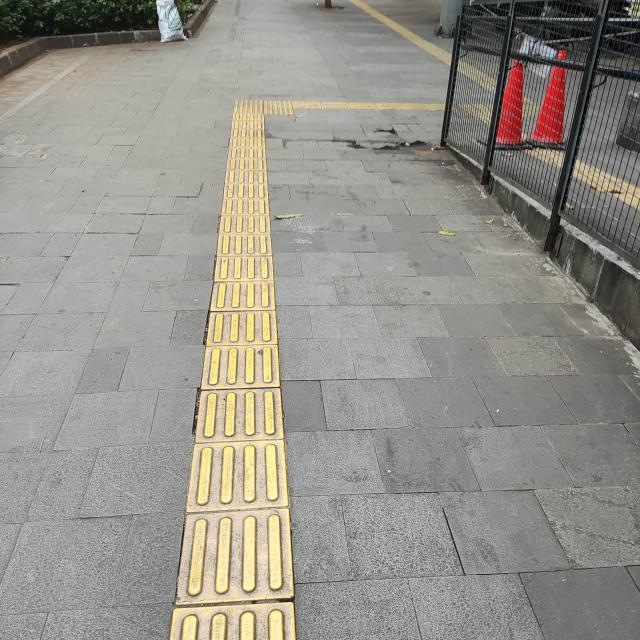kanan: (212, 81, 359, 133)
